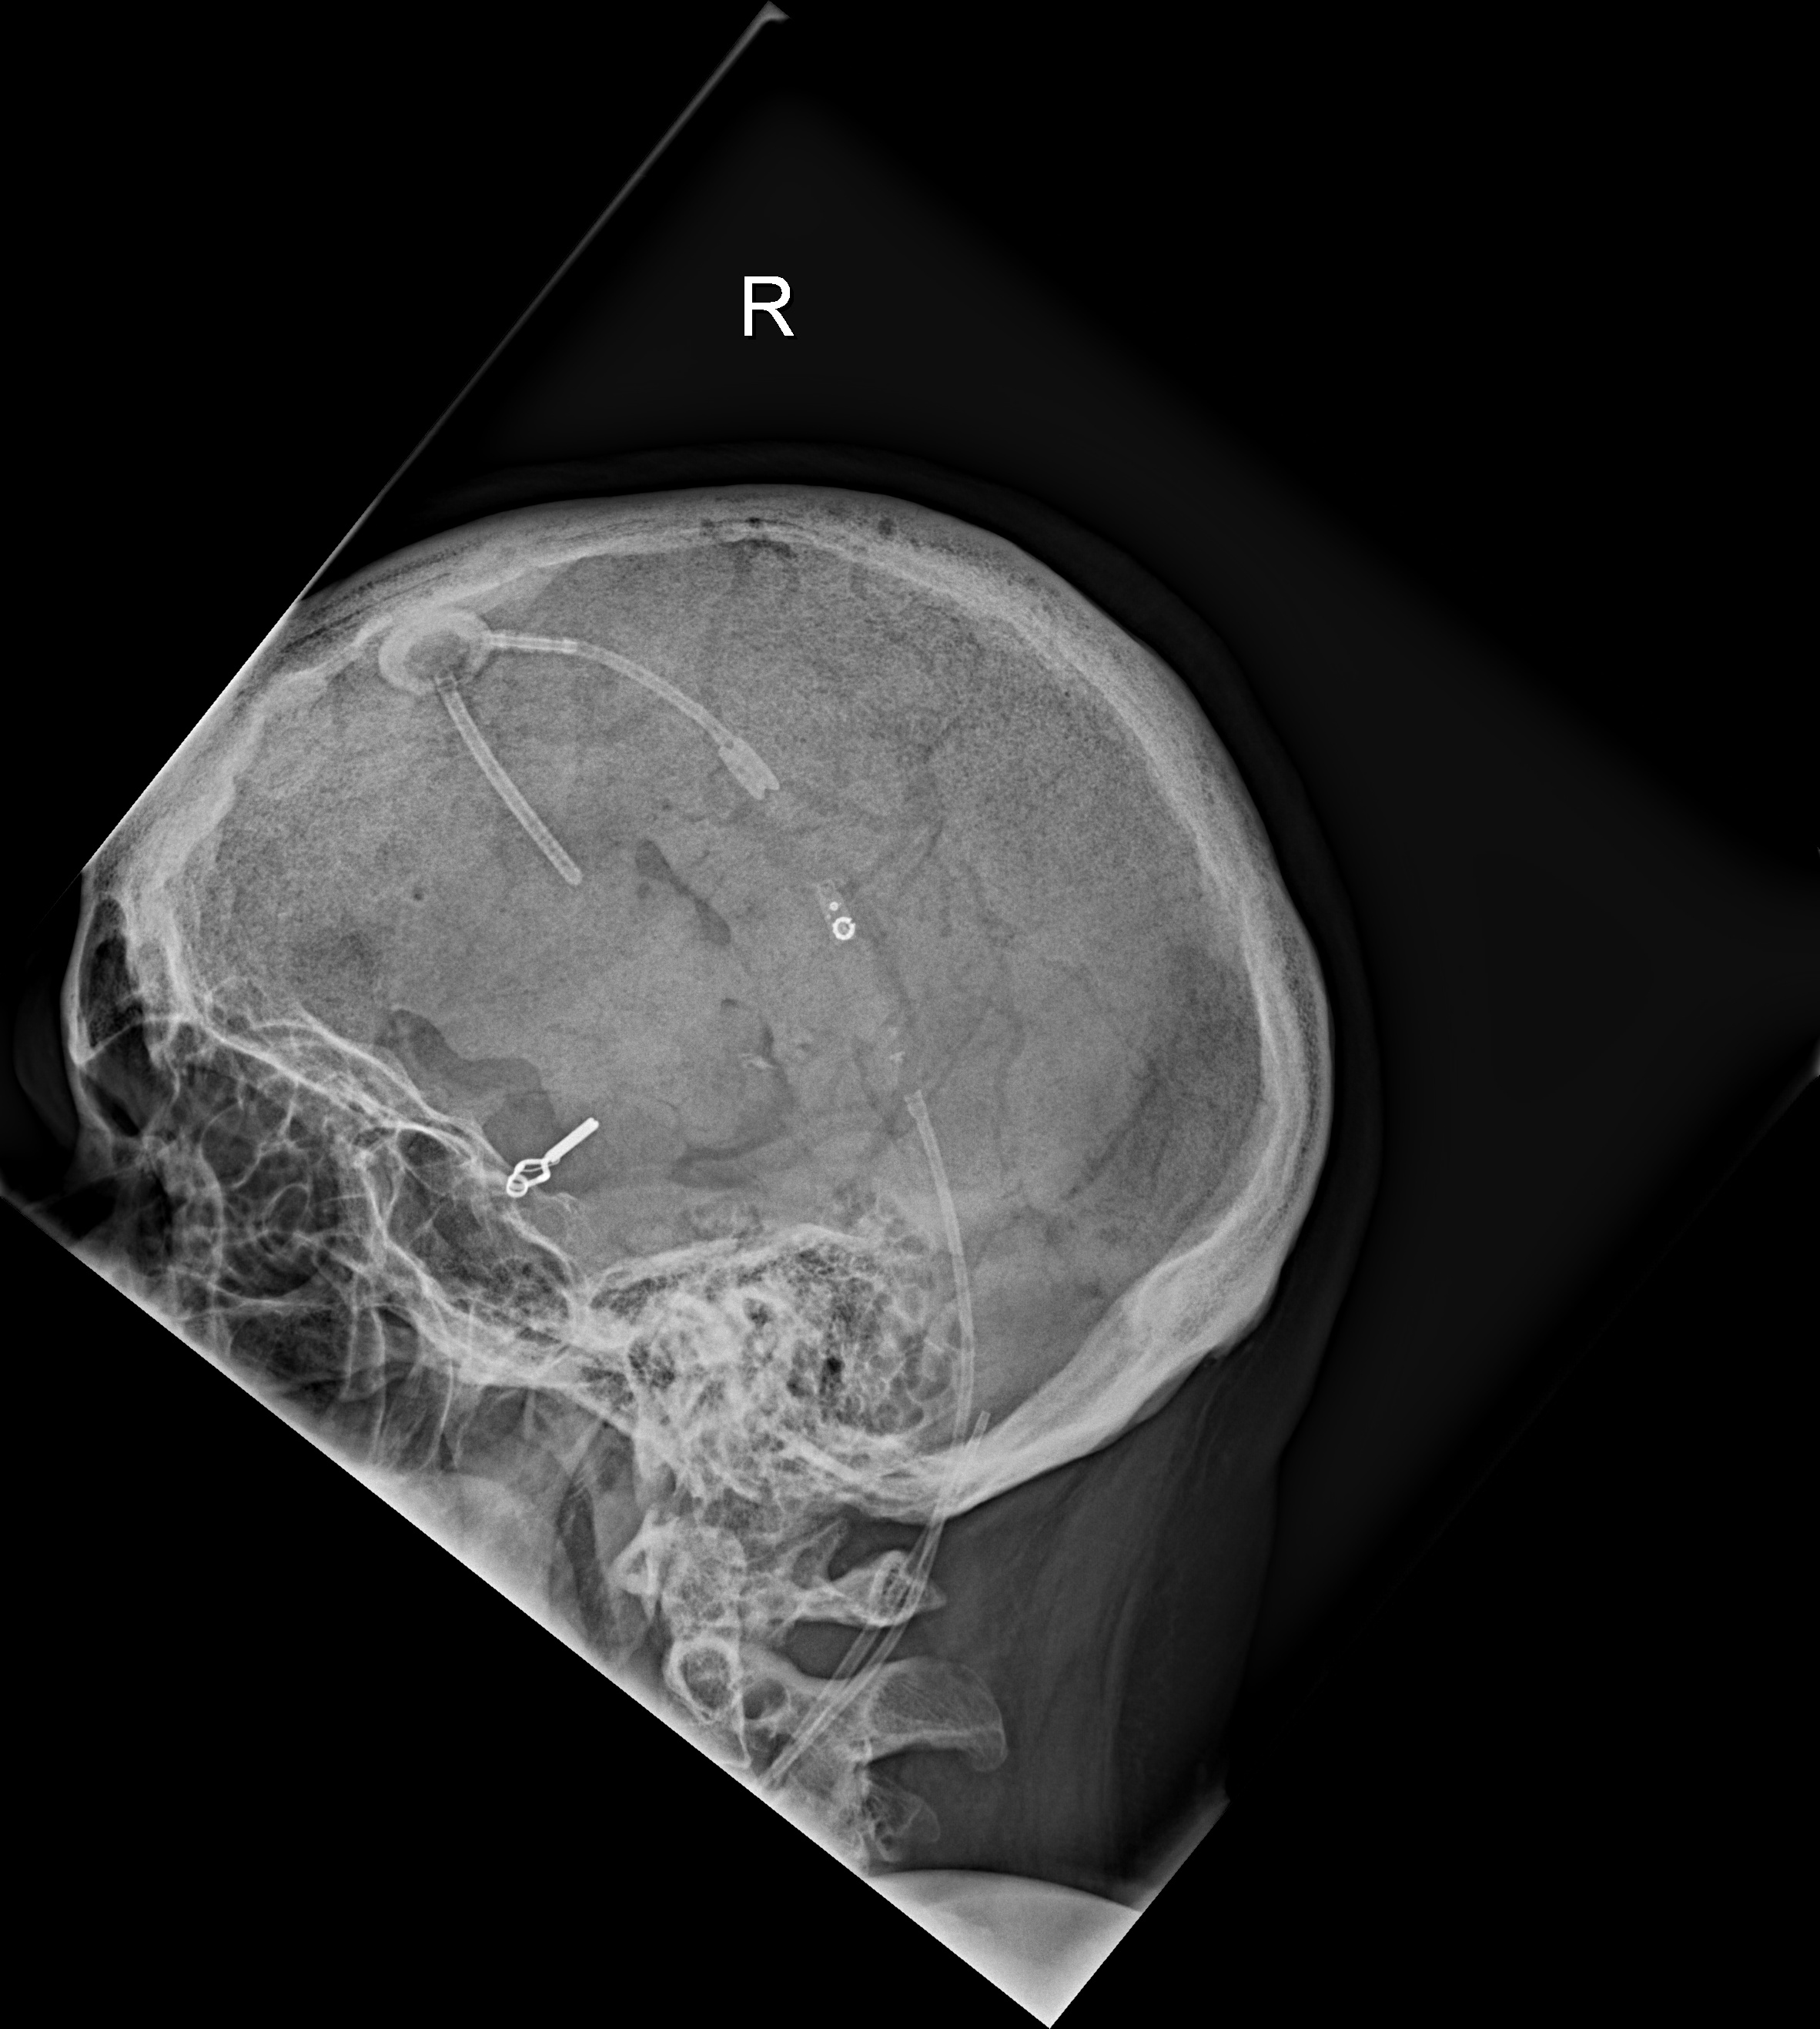Codman Hakim: (815, 896, 863, 956)
